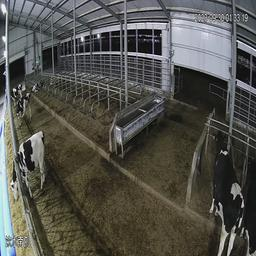cow: (208, 130, 245, 255), (3, 129, 50, 201), (246, 155, 255, 254), (15, 95, 34, 122), (5, 83, 23, 99), (31, 76, 43, 93)
